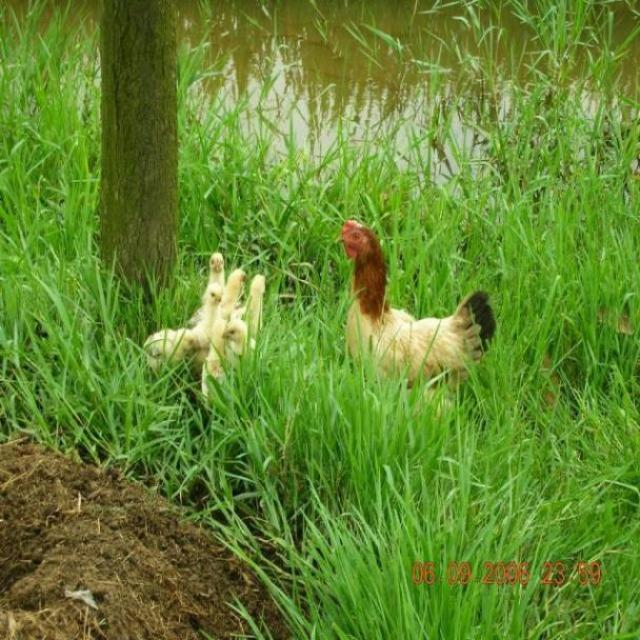Chicken: (334, 222, 496, 415)
